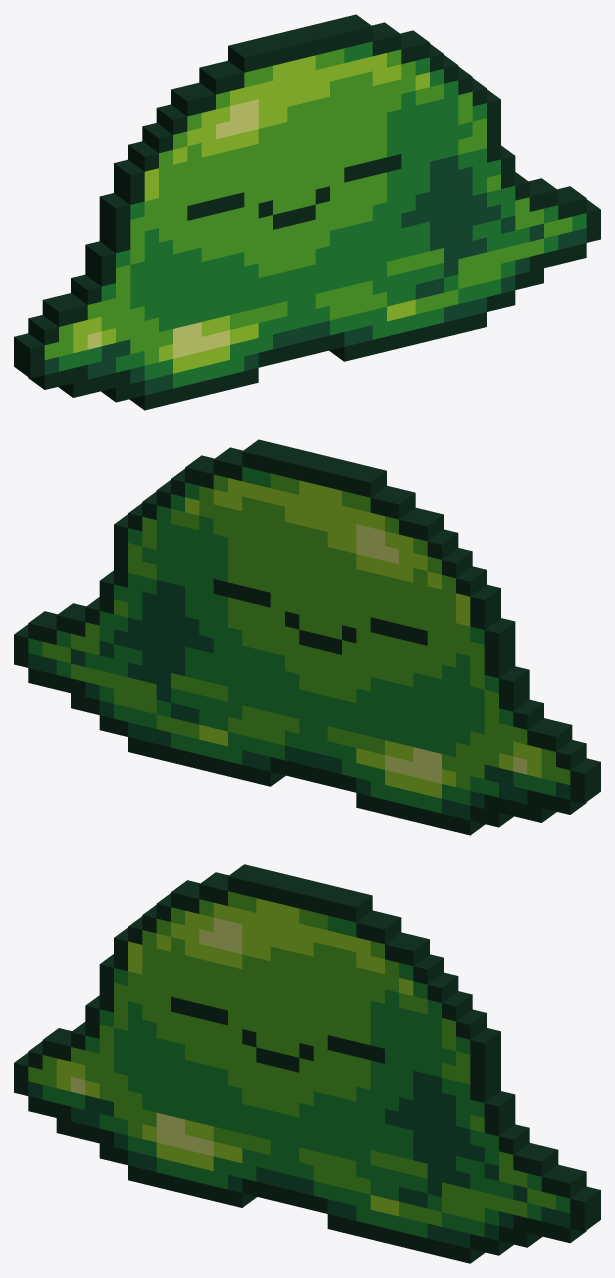
The model's file is Slime_Idle_02.obj.
3 views of the same model, one above another, from view 1: azimuth 30°, elevation 25°; view 2: azimuth 150°, elevation 25°; view 3: azimuth 330°, elevation 25° (orthographic).
Size of the model in its own units: 4 by 2.2 by 0.2.
1 material, 1 textured.
